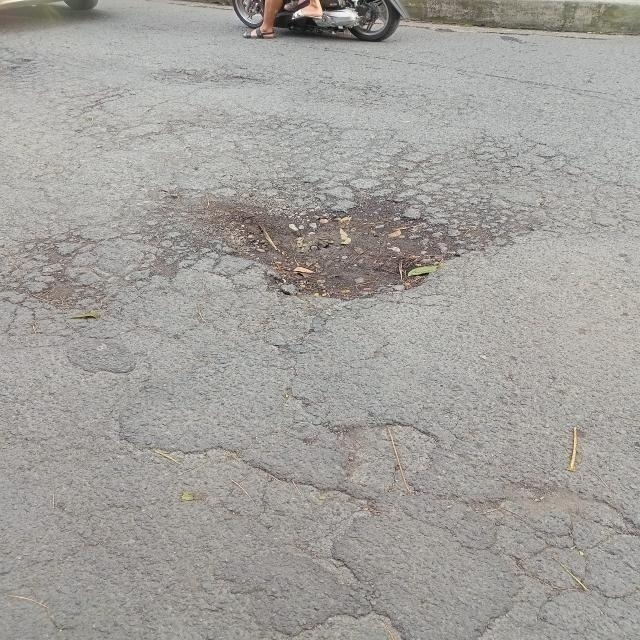pothole: (172, 148, 498, 335)
